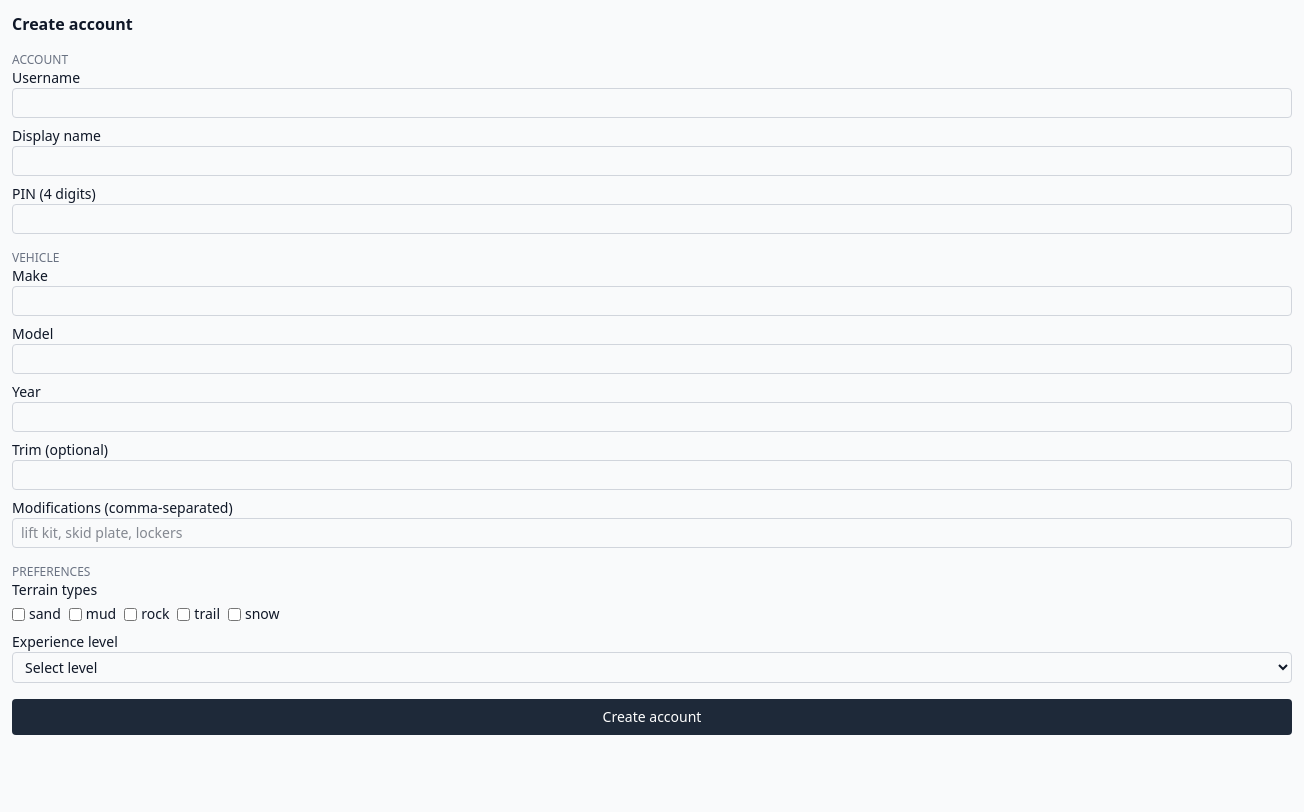
RegisterForm › username availability check › shows "available" when username is free
Type "freeuser" into the field labelled "Username" at (652, 103), box [12, 88, 1292, 118]
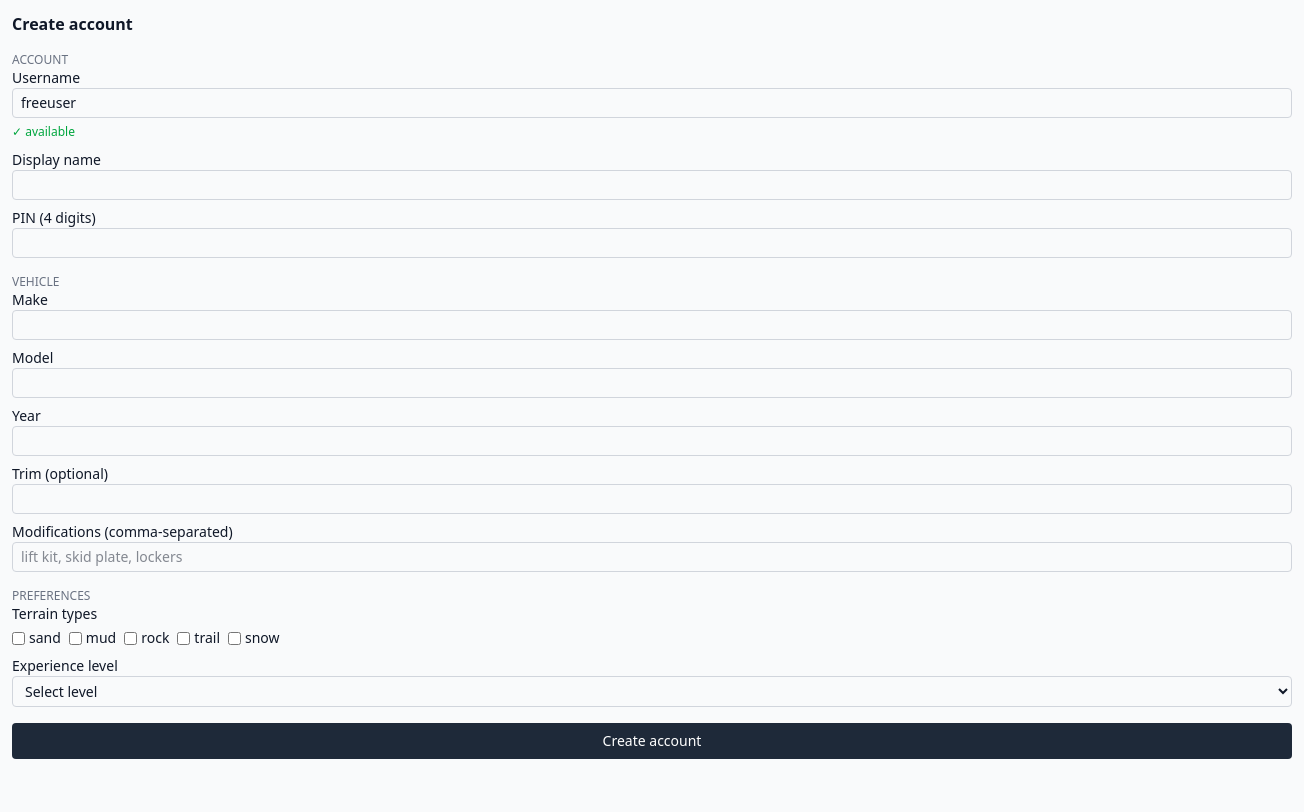
Expected: the text "✓ available" is shown, [12, 123, 75, 140]
